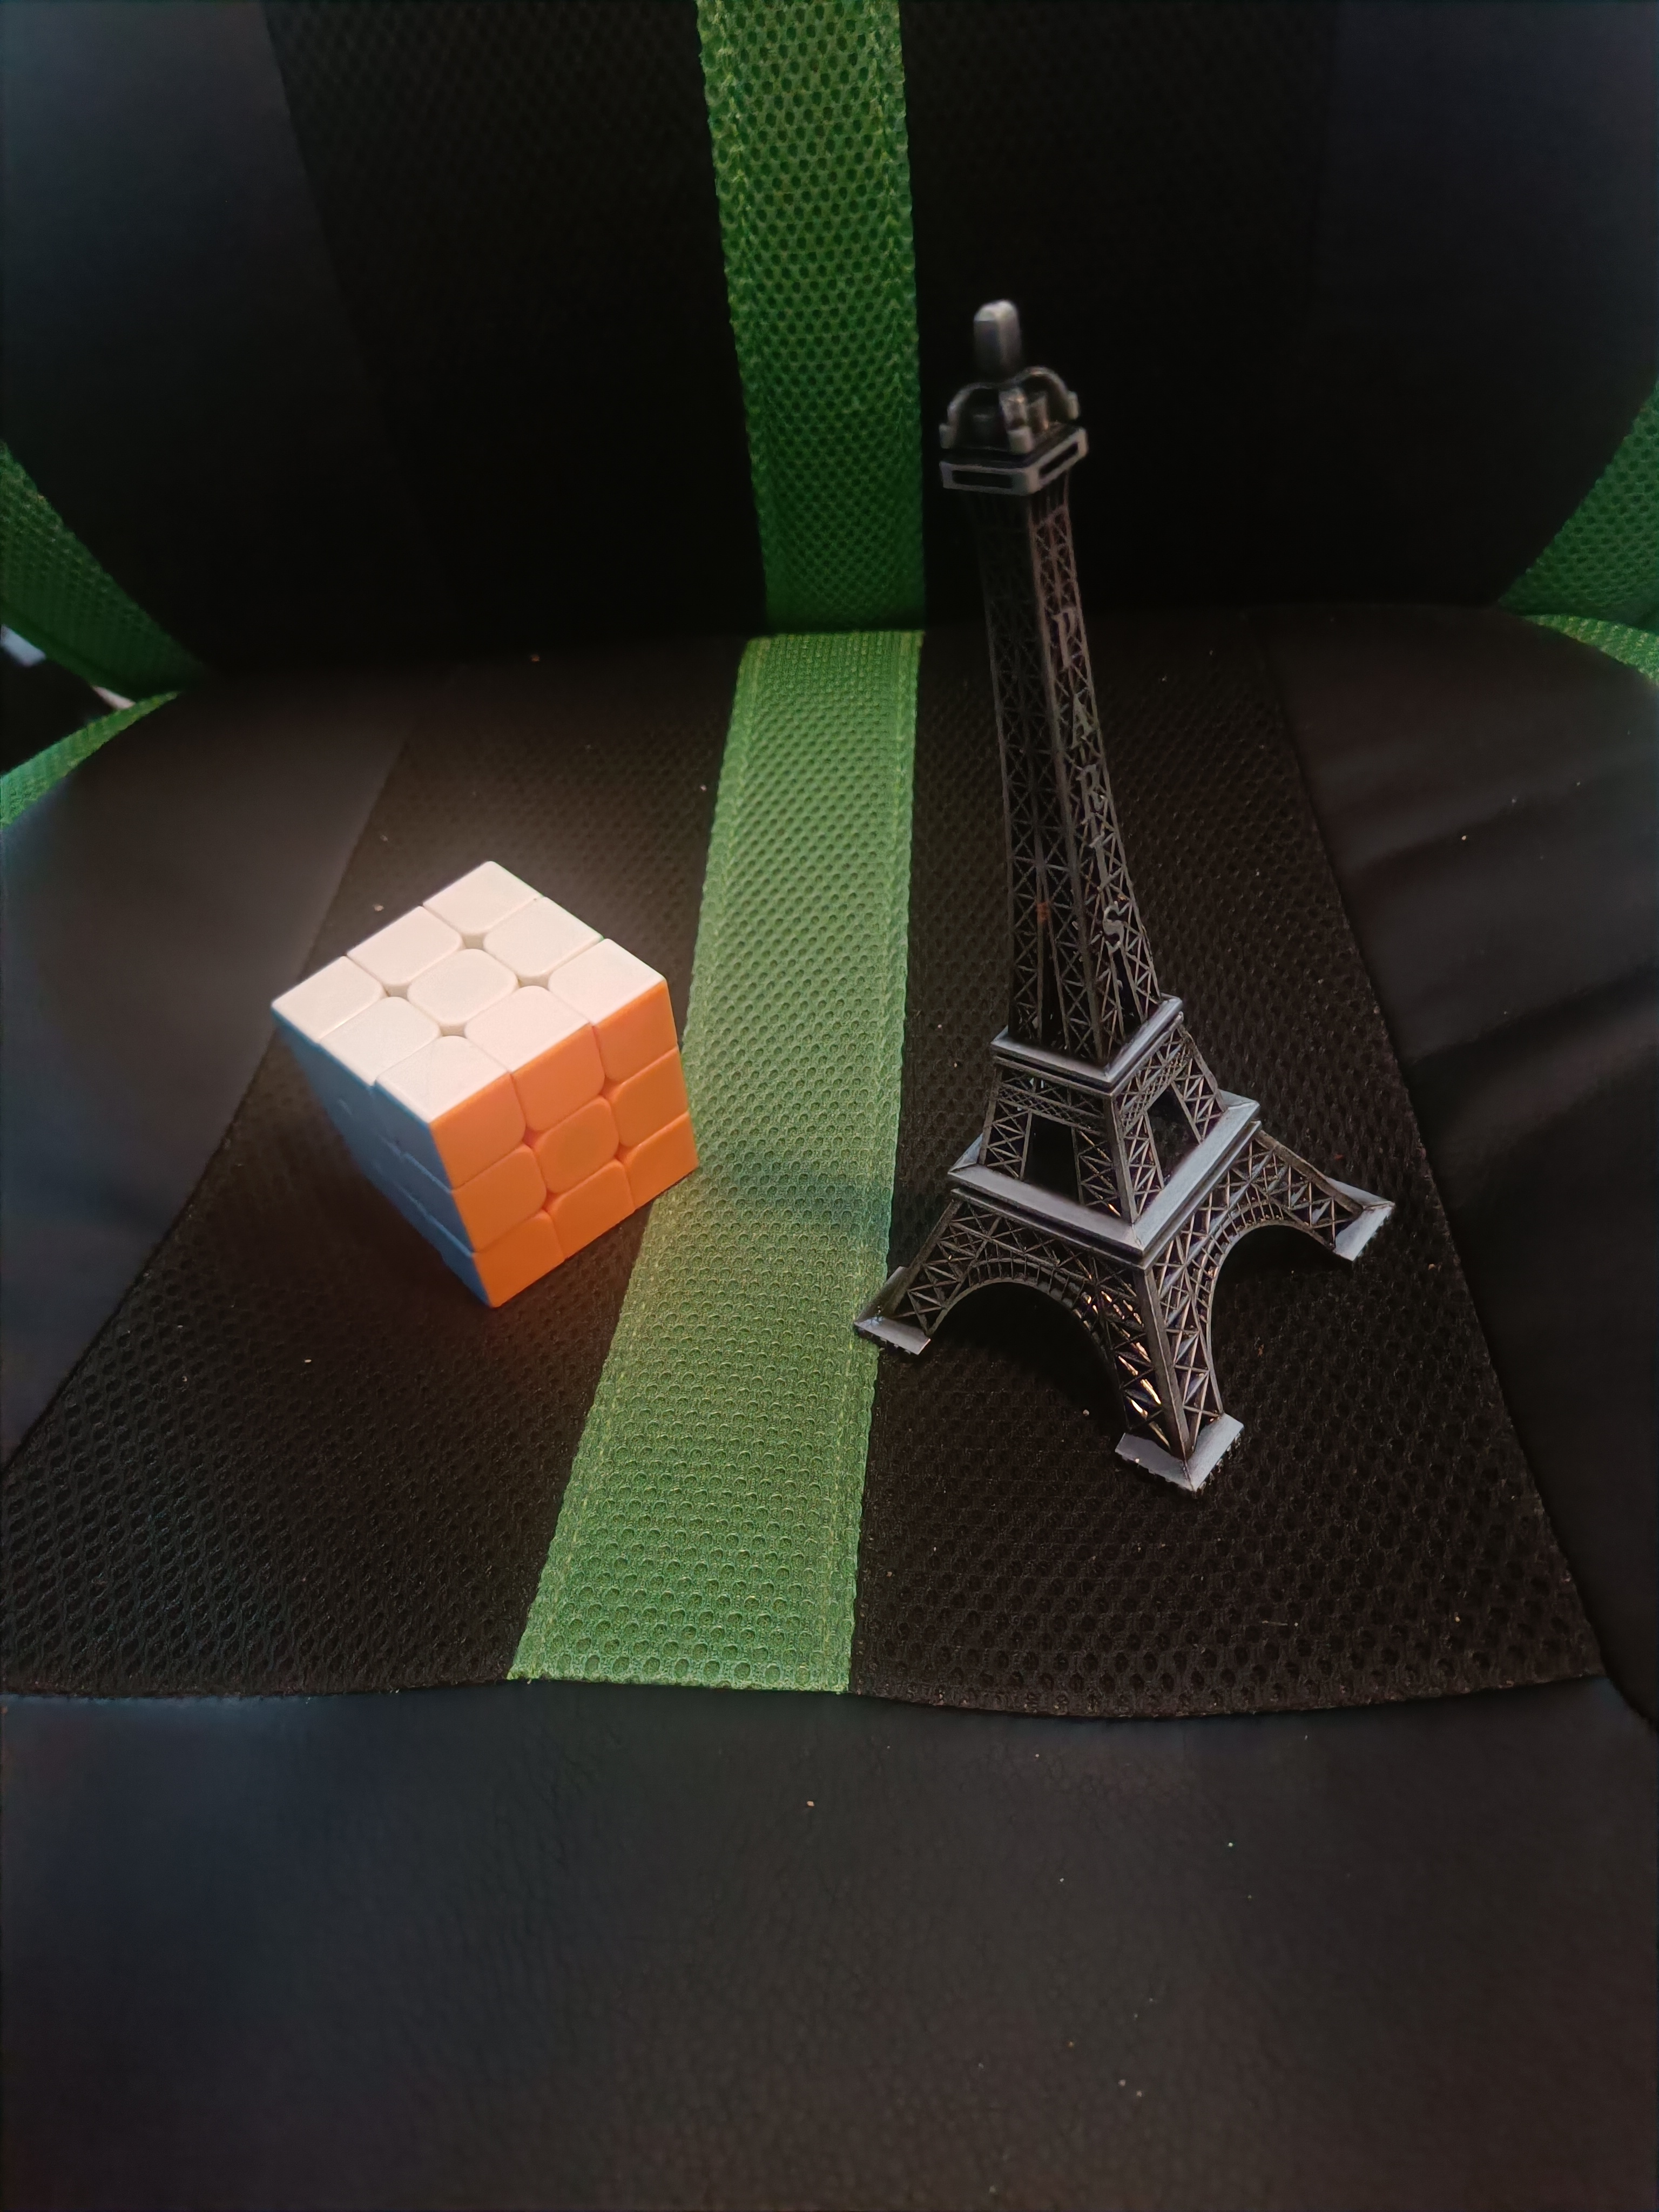Eiffel Tower: (828, 275, 1399, 1505)
Rubiks Cube: (265, 827, 723, 1327)
